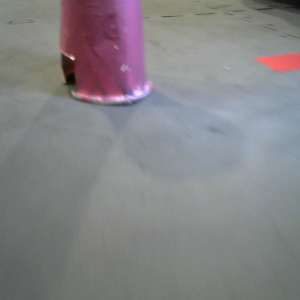right: (53, 1, 160, 115), (54, 1, 160, 115)
